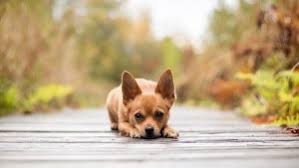chihuahua: (87, 43, 184, 159)
